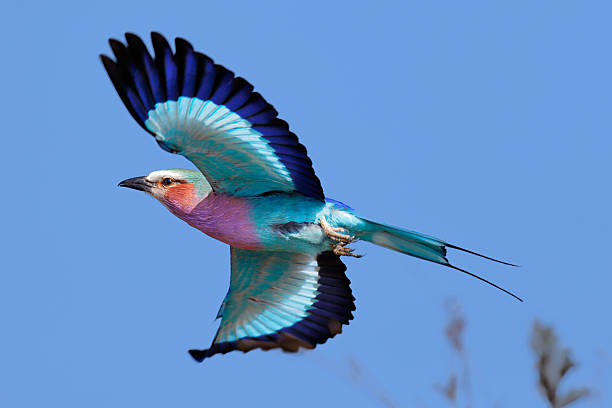Bird: (93, 23, 525, 368)
